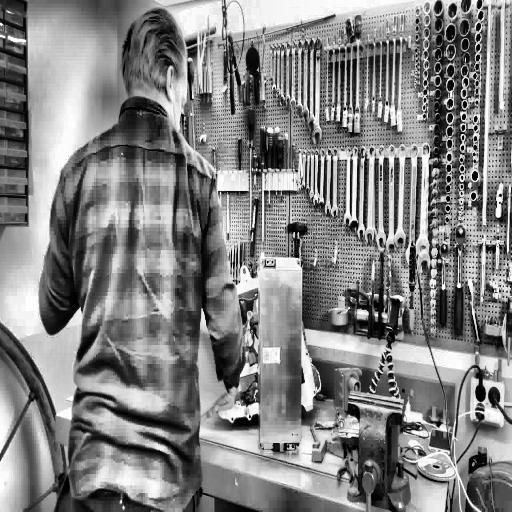battery_module: (260, 266, 301, 444)
